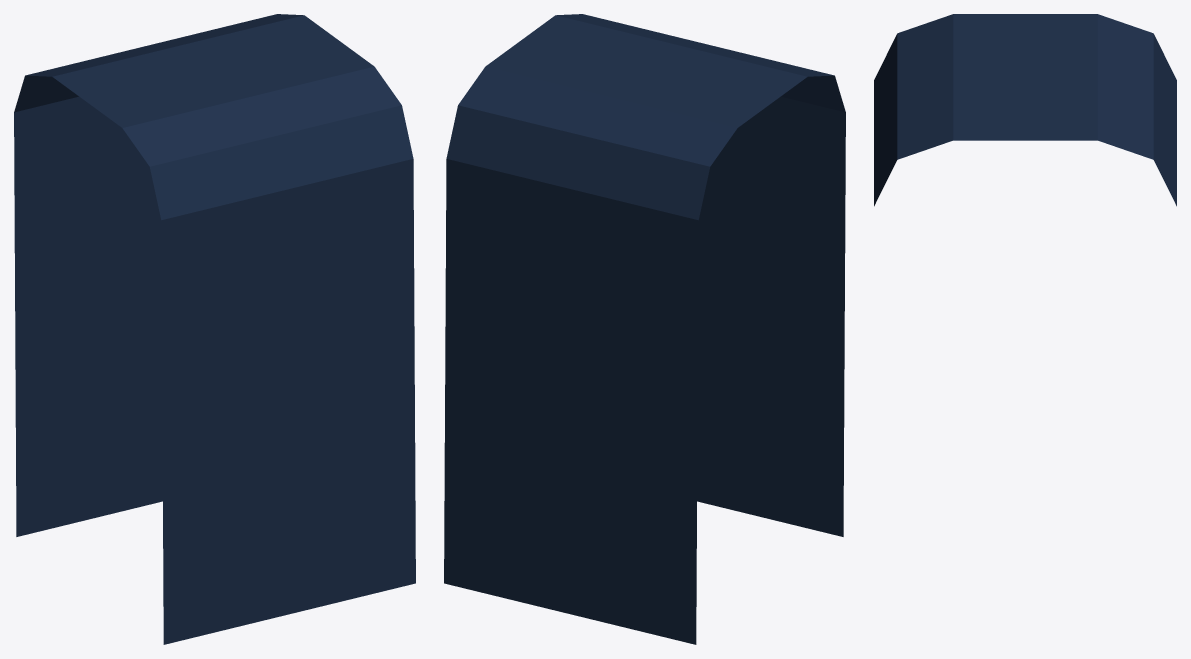
File: Wall_Segment_Middle.fbx
3 views of the same model, side by side, from view 1: azimuth 30°, elevation 25°; view 2: azimuth 150°, elevation 25°; view 3: azimuth 270°, elevation 25° (orthographic). The views are drawn at different scales.
Visible parts, largest first — view 1: SmallWall; view 2: SmallWall; view 3: SmallWall.
Boxes of the visible parts, left/top/right/bottom form: SmallWall: left=14, top=14, right=415, bottom=644; SmallWall: left=444, top=14, right=845, bottom=644; SmallWall: left=874, top=14, right=1176, bottom=206.
Bounding box in the file's own units: 30 × 55 × 30.
